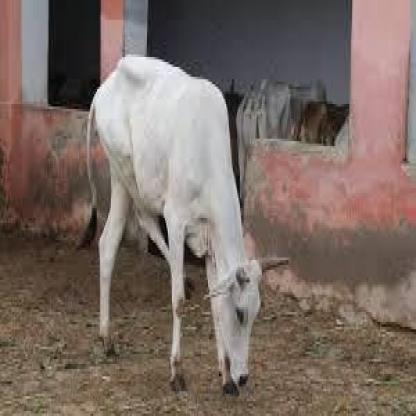cow: (86, 55, 290, 396)
